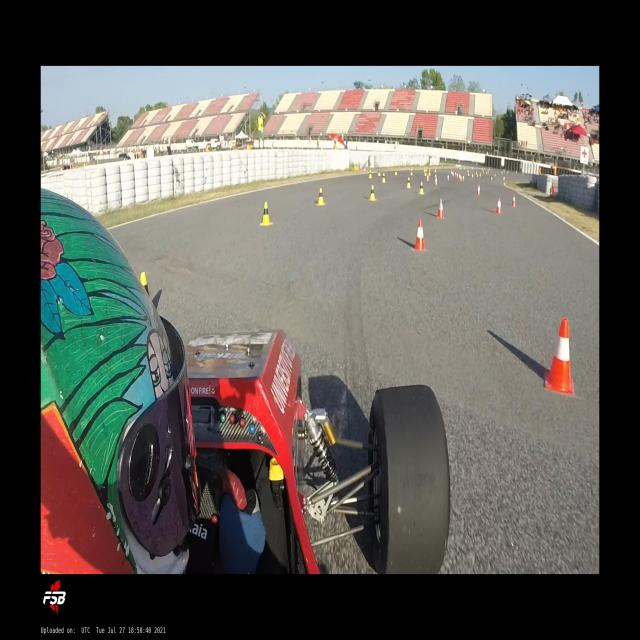orange_cone: (544, 318, 575, 395), (412, 219, 427, 252), (436, 199, 444, 219), (495, 197, 502, 214), (511, 194, 516, 207), (476, 185, 481, 195), (434, 176, 438, 186), (426, 174, 429, 182), (447, 174, 449, 182), (460, 175, 462, 181), (462, 175, 464, 181)
yellow_cone: (260, 202, 273, 226), (140, 271, 149, 297), (316, 187, 326, 205), (368, 184, 376, 200), (419, 181, 424, 194), (406, 177, 411, 188), (381, 172, 386, 182), (369, 169, 372, 178), (410, 169, 413, 176), (378, 169, 381, 176), (394, 168, 397, 175)
